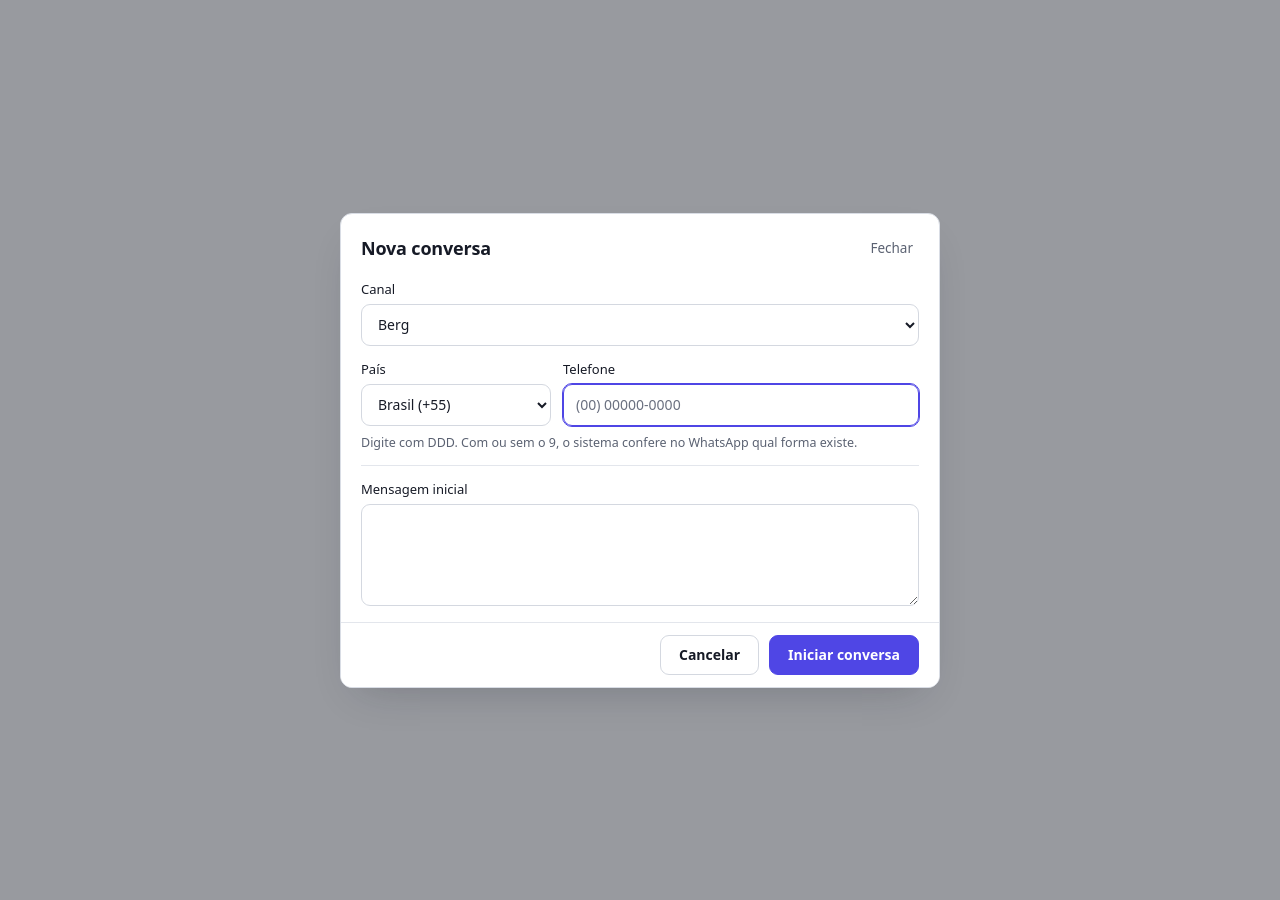
Test: Nova conversa: conteúdo só com o tipo do canal, erro fixo › erro do envio: fixo acima do rodapé, fora do corpo que rola (A1-7); um envio por clique
Type "98999990000" into the field labelled "Telefone" at (741, 404), box x1=563 y1=384 x2=919 y2=426
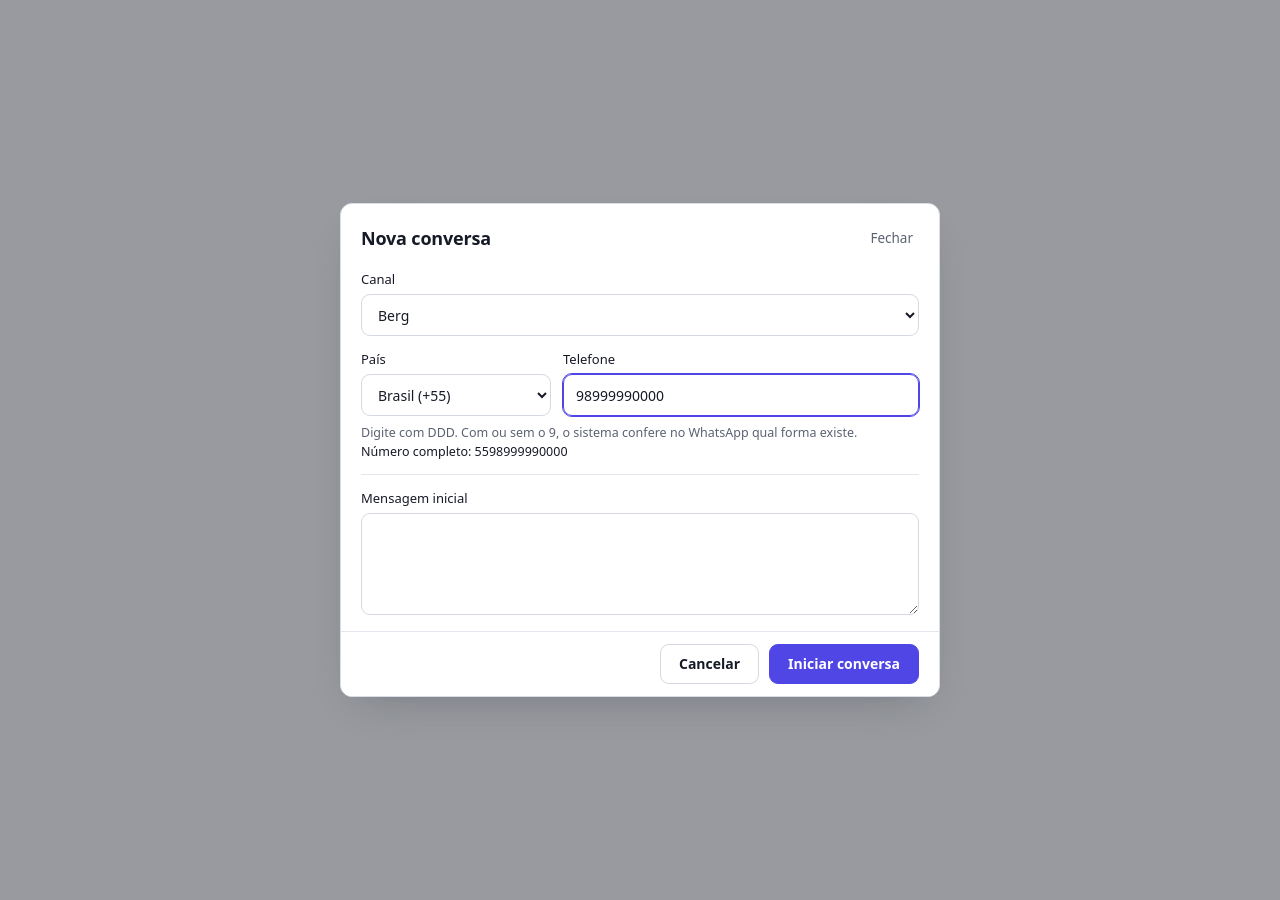
Type "Oi" into the text box labelled "Mensagem inicial" at (640, 564), box x1=361 y1=513 x2=919 y2=615
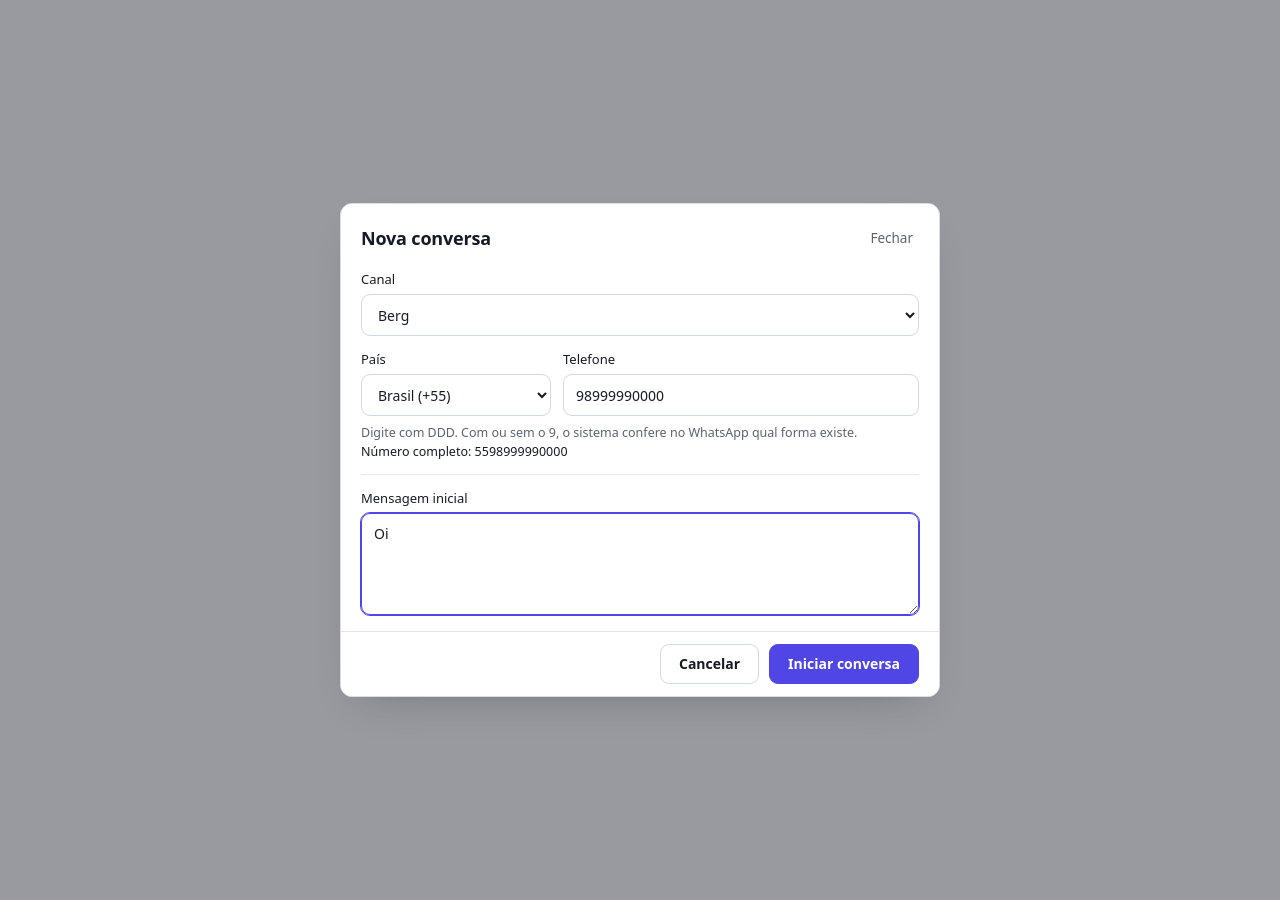
Click the button "Iniciar conversa" at (844, 664), box x1=769 y1=644 x2=919 y2=684
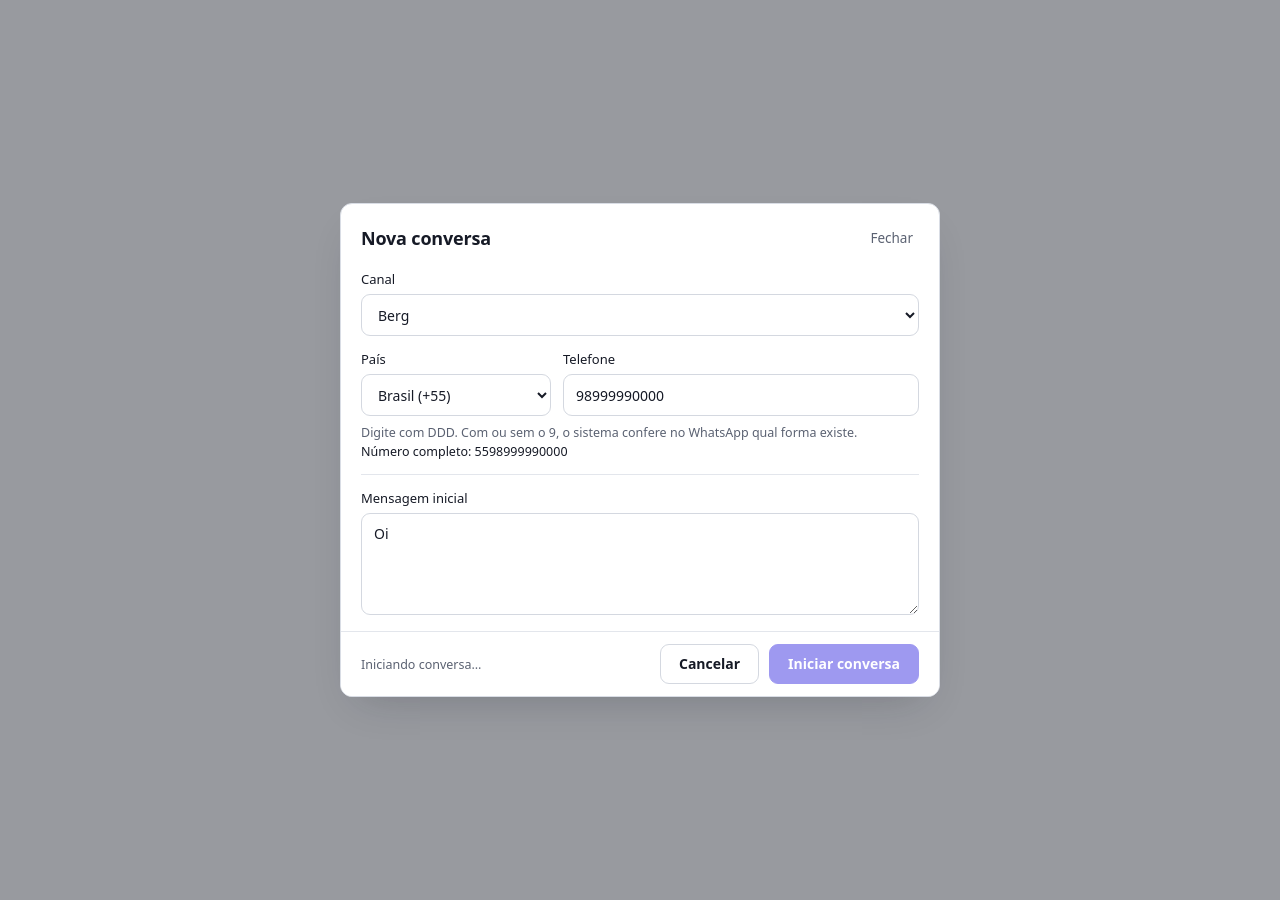
Click the button "Iniciar conversa" at (844, 664), box x1=769 y1=644 x2=919 y2=684
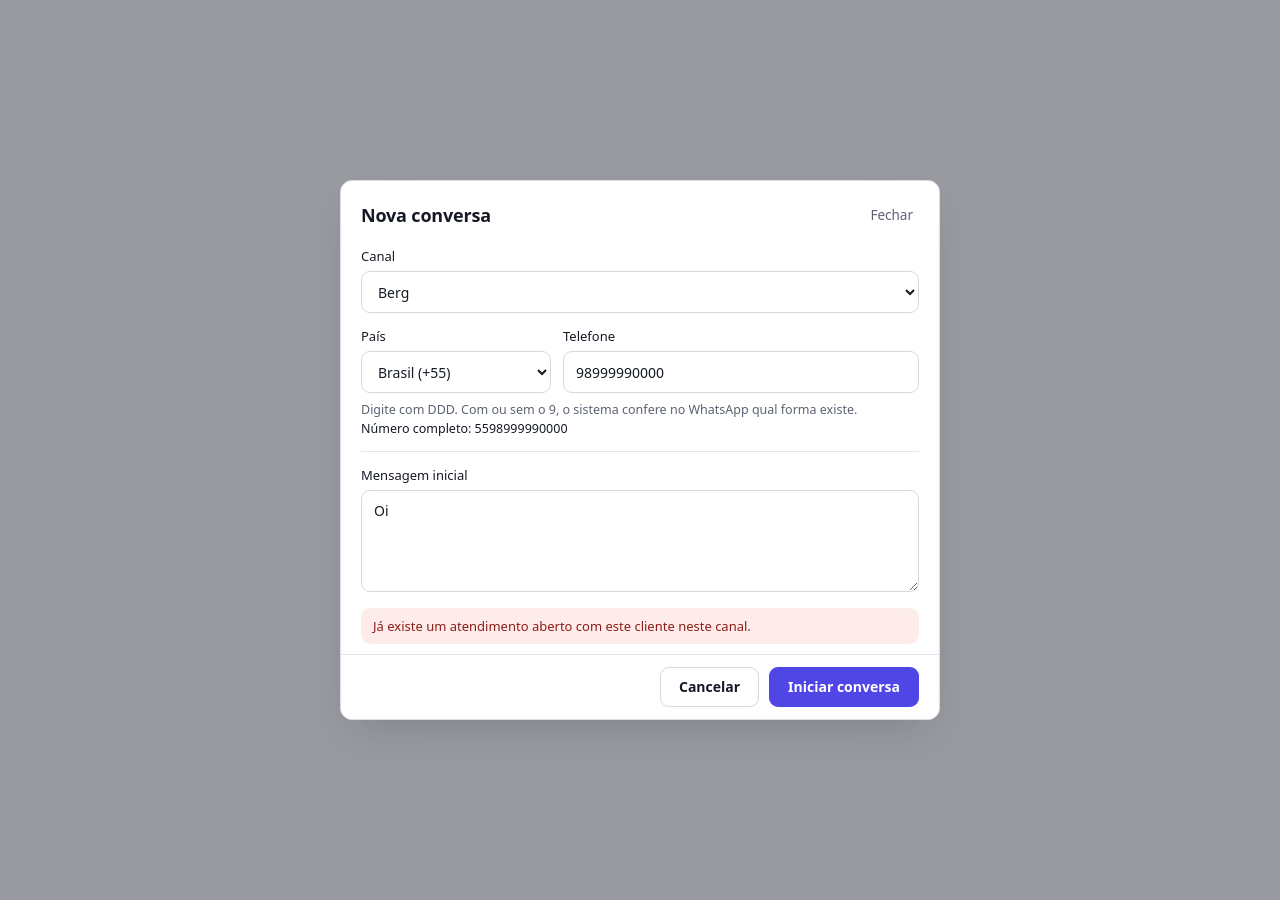
Result: the message reads "Já existe um atendimento aberto com este cliente neste canal." at x1=373 y1=617 x2=751 y2=635
